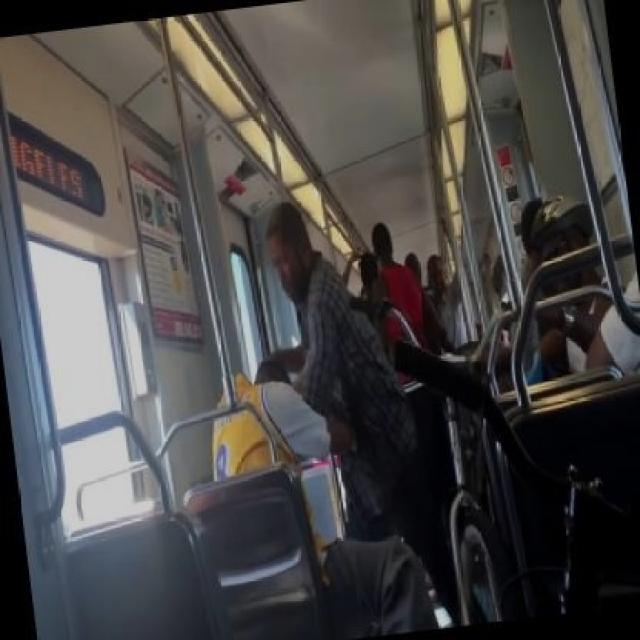fight: (208, 200, 466, 637)
